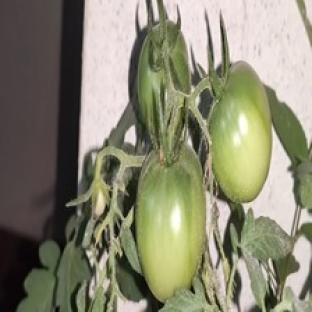Tomato: (136, 145, 206, 302), (209, 62, 271, 203), (138, 24, 165, 136)
